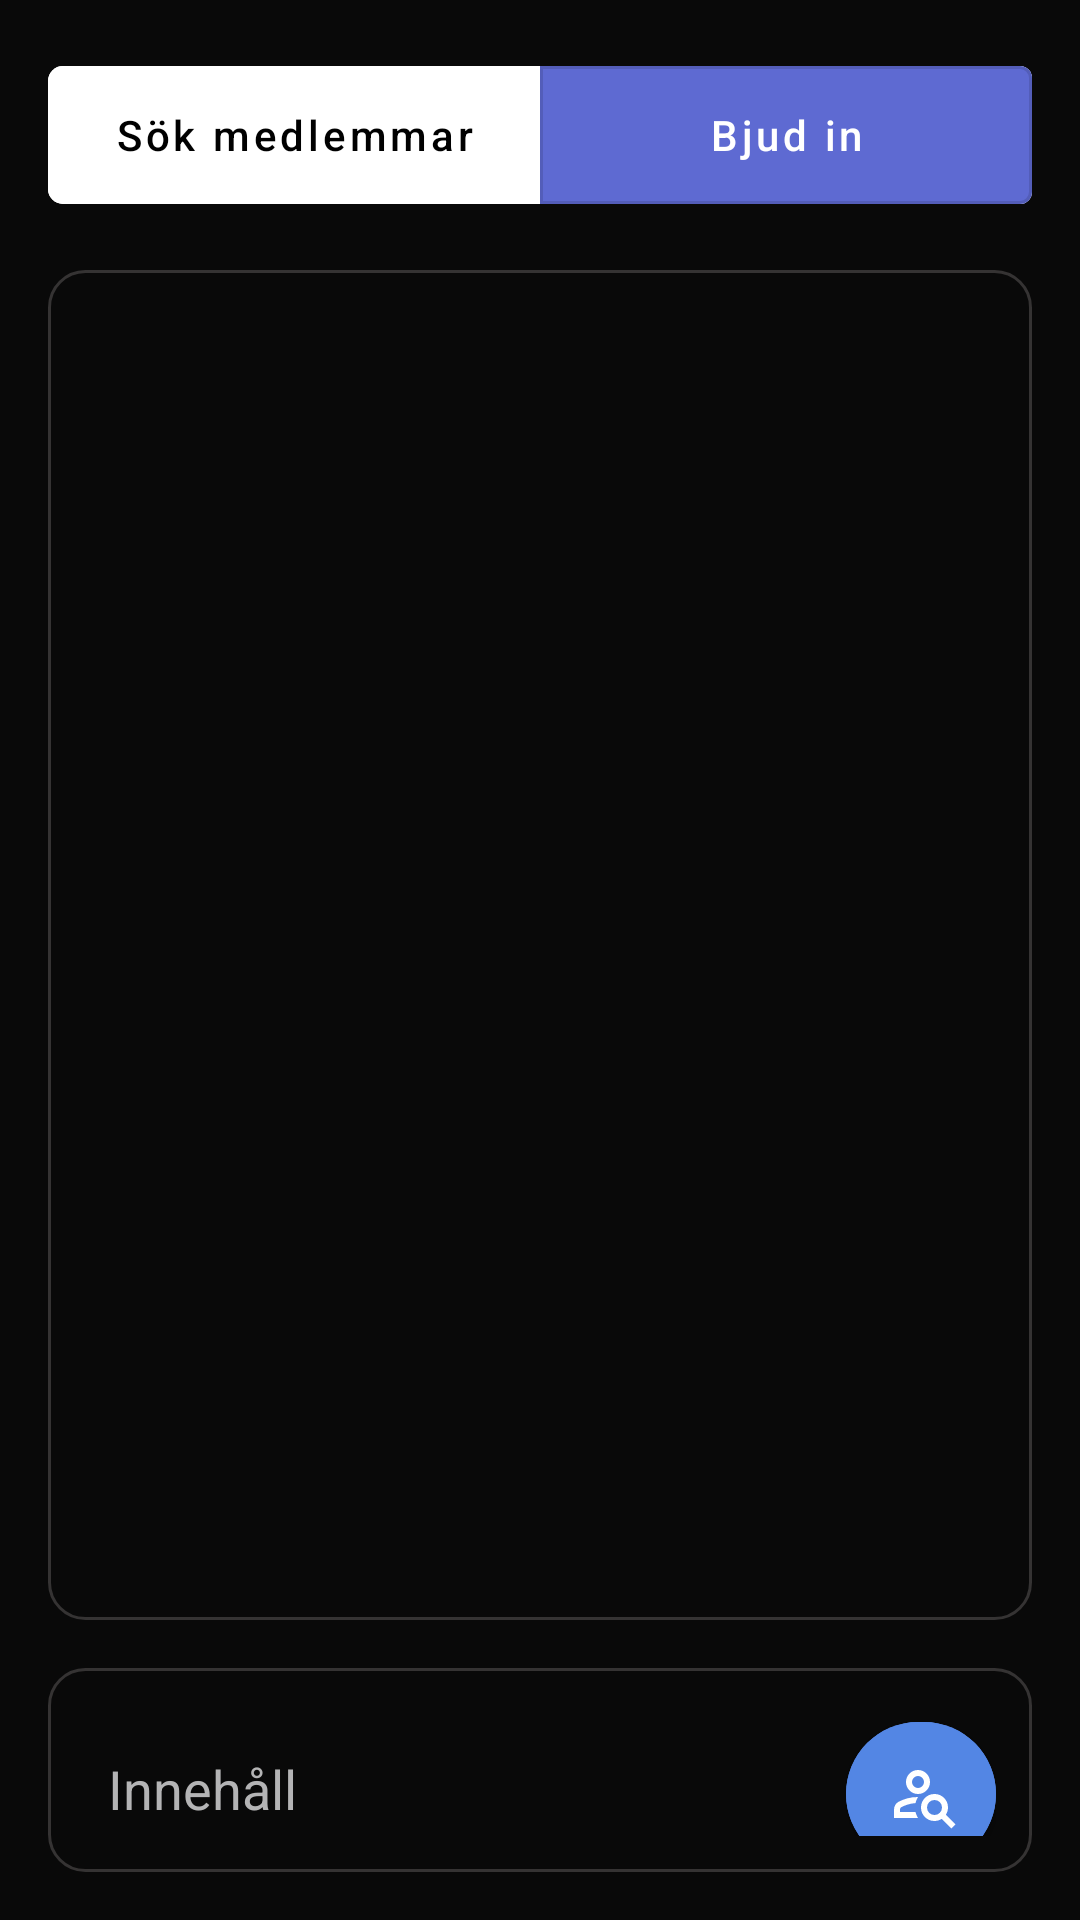

Screen size 1080px x 1920px. Icon name, then its box in pixels as (x1, y1, x2, y2):
person search: (846, 1722, 996, 1836)
